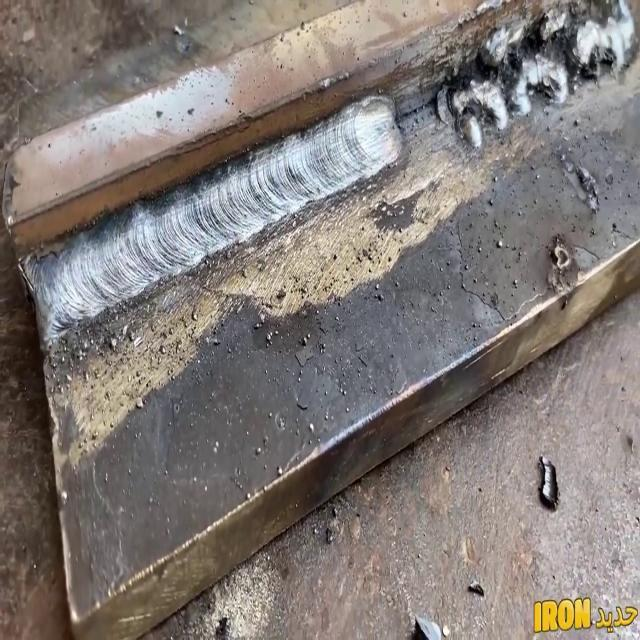Bad Weld: (433, 0, 638, 149)
Good Weld: (16, 92, 402, 354)
